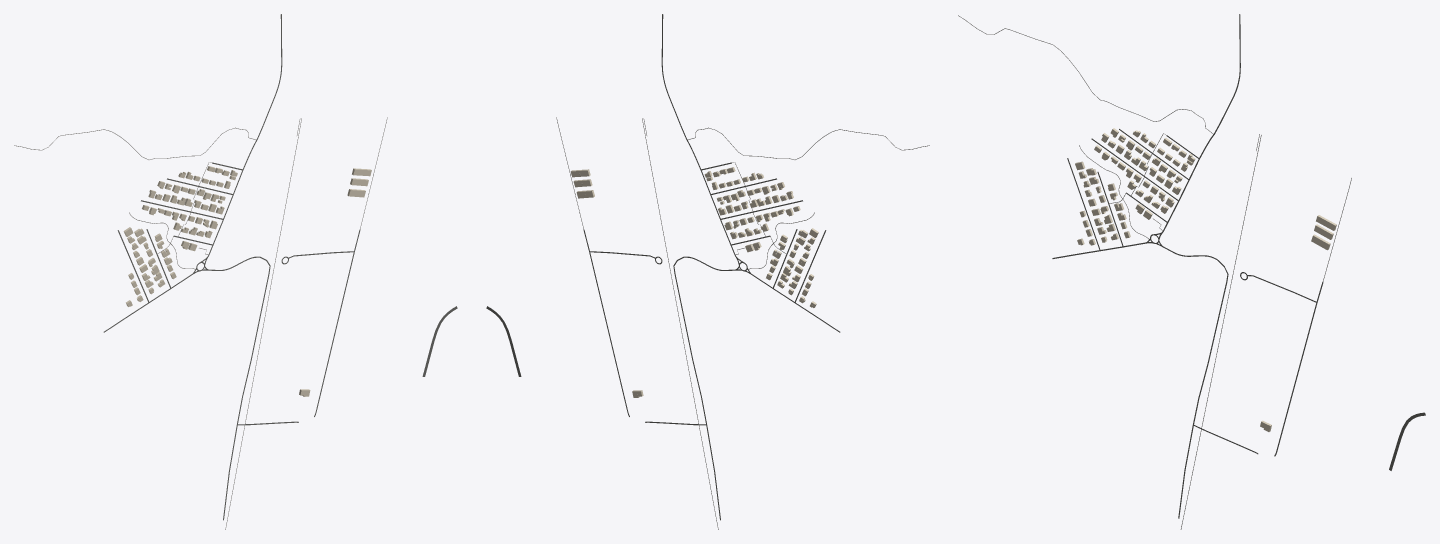
The model's file is historic-palestine-09_35_3508_3295.glb.
3 renders of one model, left to right at view 1: azimuth 30°, elevation 25°; view 2: azimuth 150°, elevation 25°; view 3: azimuth 330°, elevation 25°, orthographic. The views are drawn at different scales.
Visible parts, largest first — view 1: Road דרך הזית.004; view 2: Road דרך הזית.004; view 3: Road דרך הזית.004.
Part boxes in pixels (box(x1,y1,x2,y2)): Road דרך הזית.004: box(208, 256, 270, 520); Road דרך הזית.004: box(673, 256, 735, 520); Road דרך הזית.004: box(1163, 246, 1228, 518).
Size of the model in its own units: 1322 by 1432 by 8.7.
